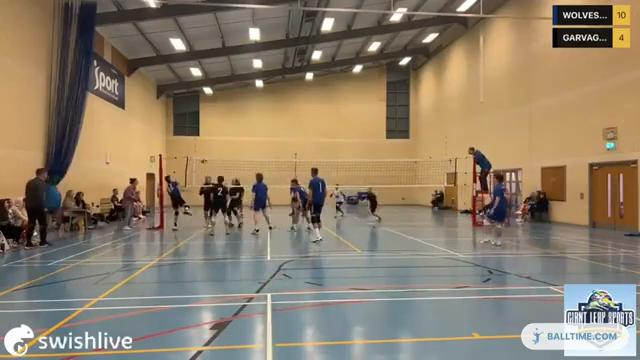attacco: (160, 170, 196, 236)
